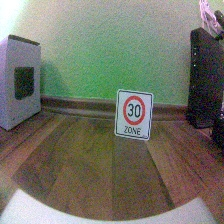dreisiger_zone: (115, 89, 153, 144)
